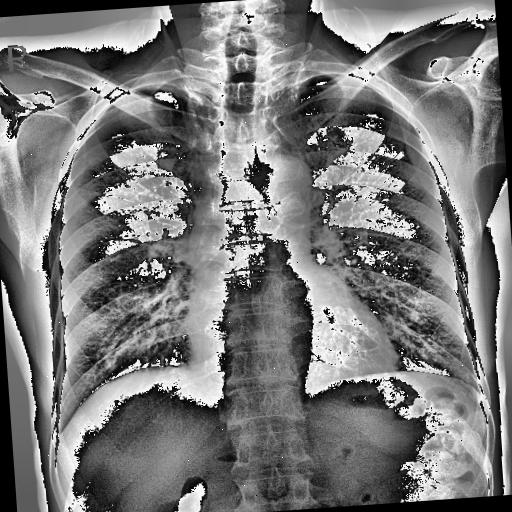0- Aortic enlargement: (256, 151, 318, 229), (252, 152, 314, 220), (250, 152, 314, 208)
11- Pleural thickening: (140, 72, 218, 102), (140, 75, 186, 104)
13- Pulmonary fibrosis: (174, 94, 218, 174)
